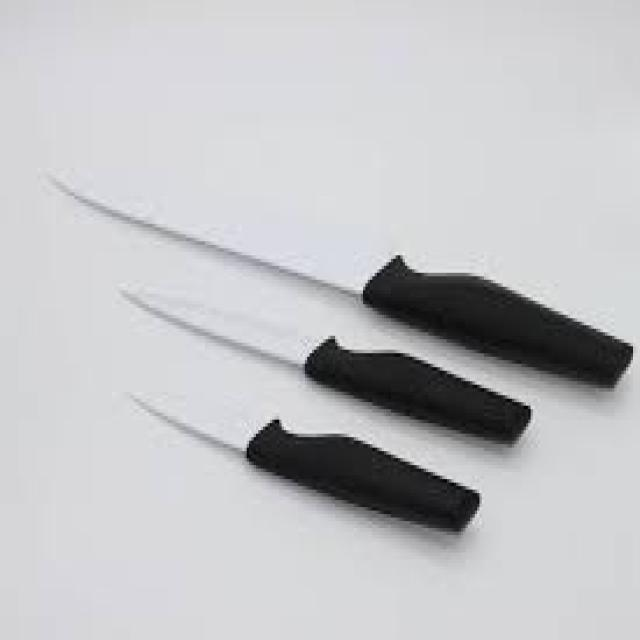Knife: (44, 164, 633, 388), (119, 276, 530, 444), (128, 388, 479, 532)
